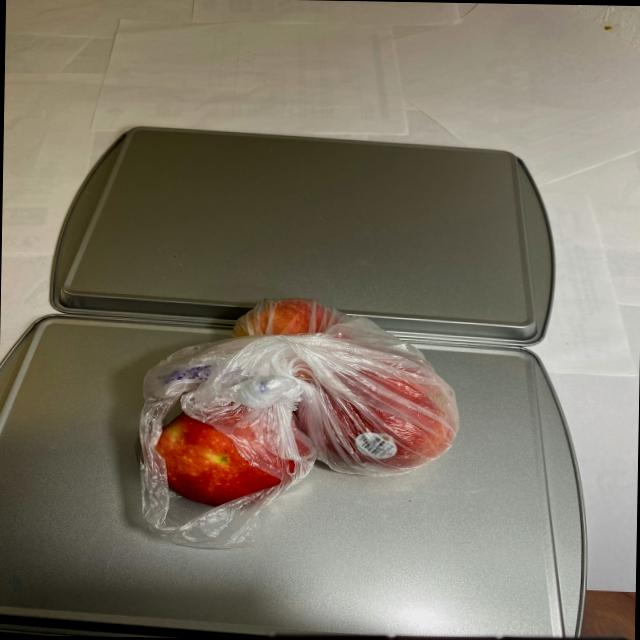apple: (136, 294, 457, 518)
